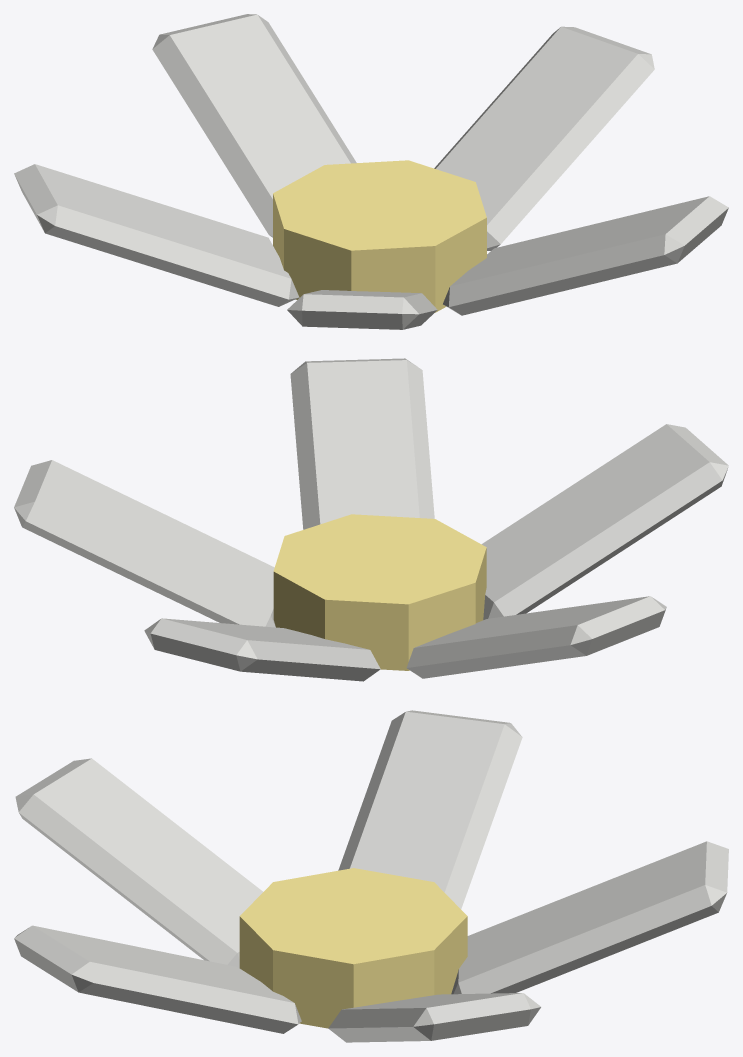
File: golem_flower_white_01.glb
3 renders of one model, top to bottom at view 1: azimuth 30°, elevation 25°; view 2: azimuth 150°, elevation 25°; view 3: azimuth 270°, elevation 25°, orthographic. The views are drawn at different scales.
Parts seen in each view (by area): view 1: golem_flower_white; view 2: golem_flower_white; view 3: golem_flower_white.
Boxes of the visible parts, bbox=[...] form: golem_flower_white: bbox=[14, 14, 728, 329]; golem_flower_white: bbox=[14, 358, 728, 681]; golem_flower_white: bbox=[14, 710, 728, 1042].
Size of the model in its own units: 0.4893 by 0.0925 by 0.4709.
